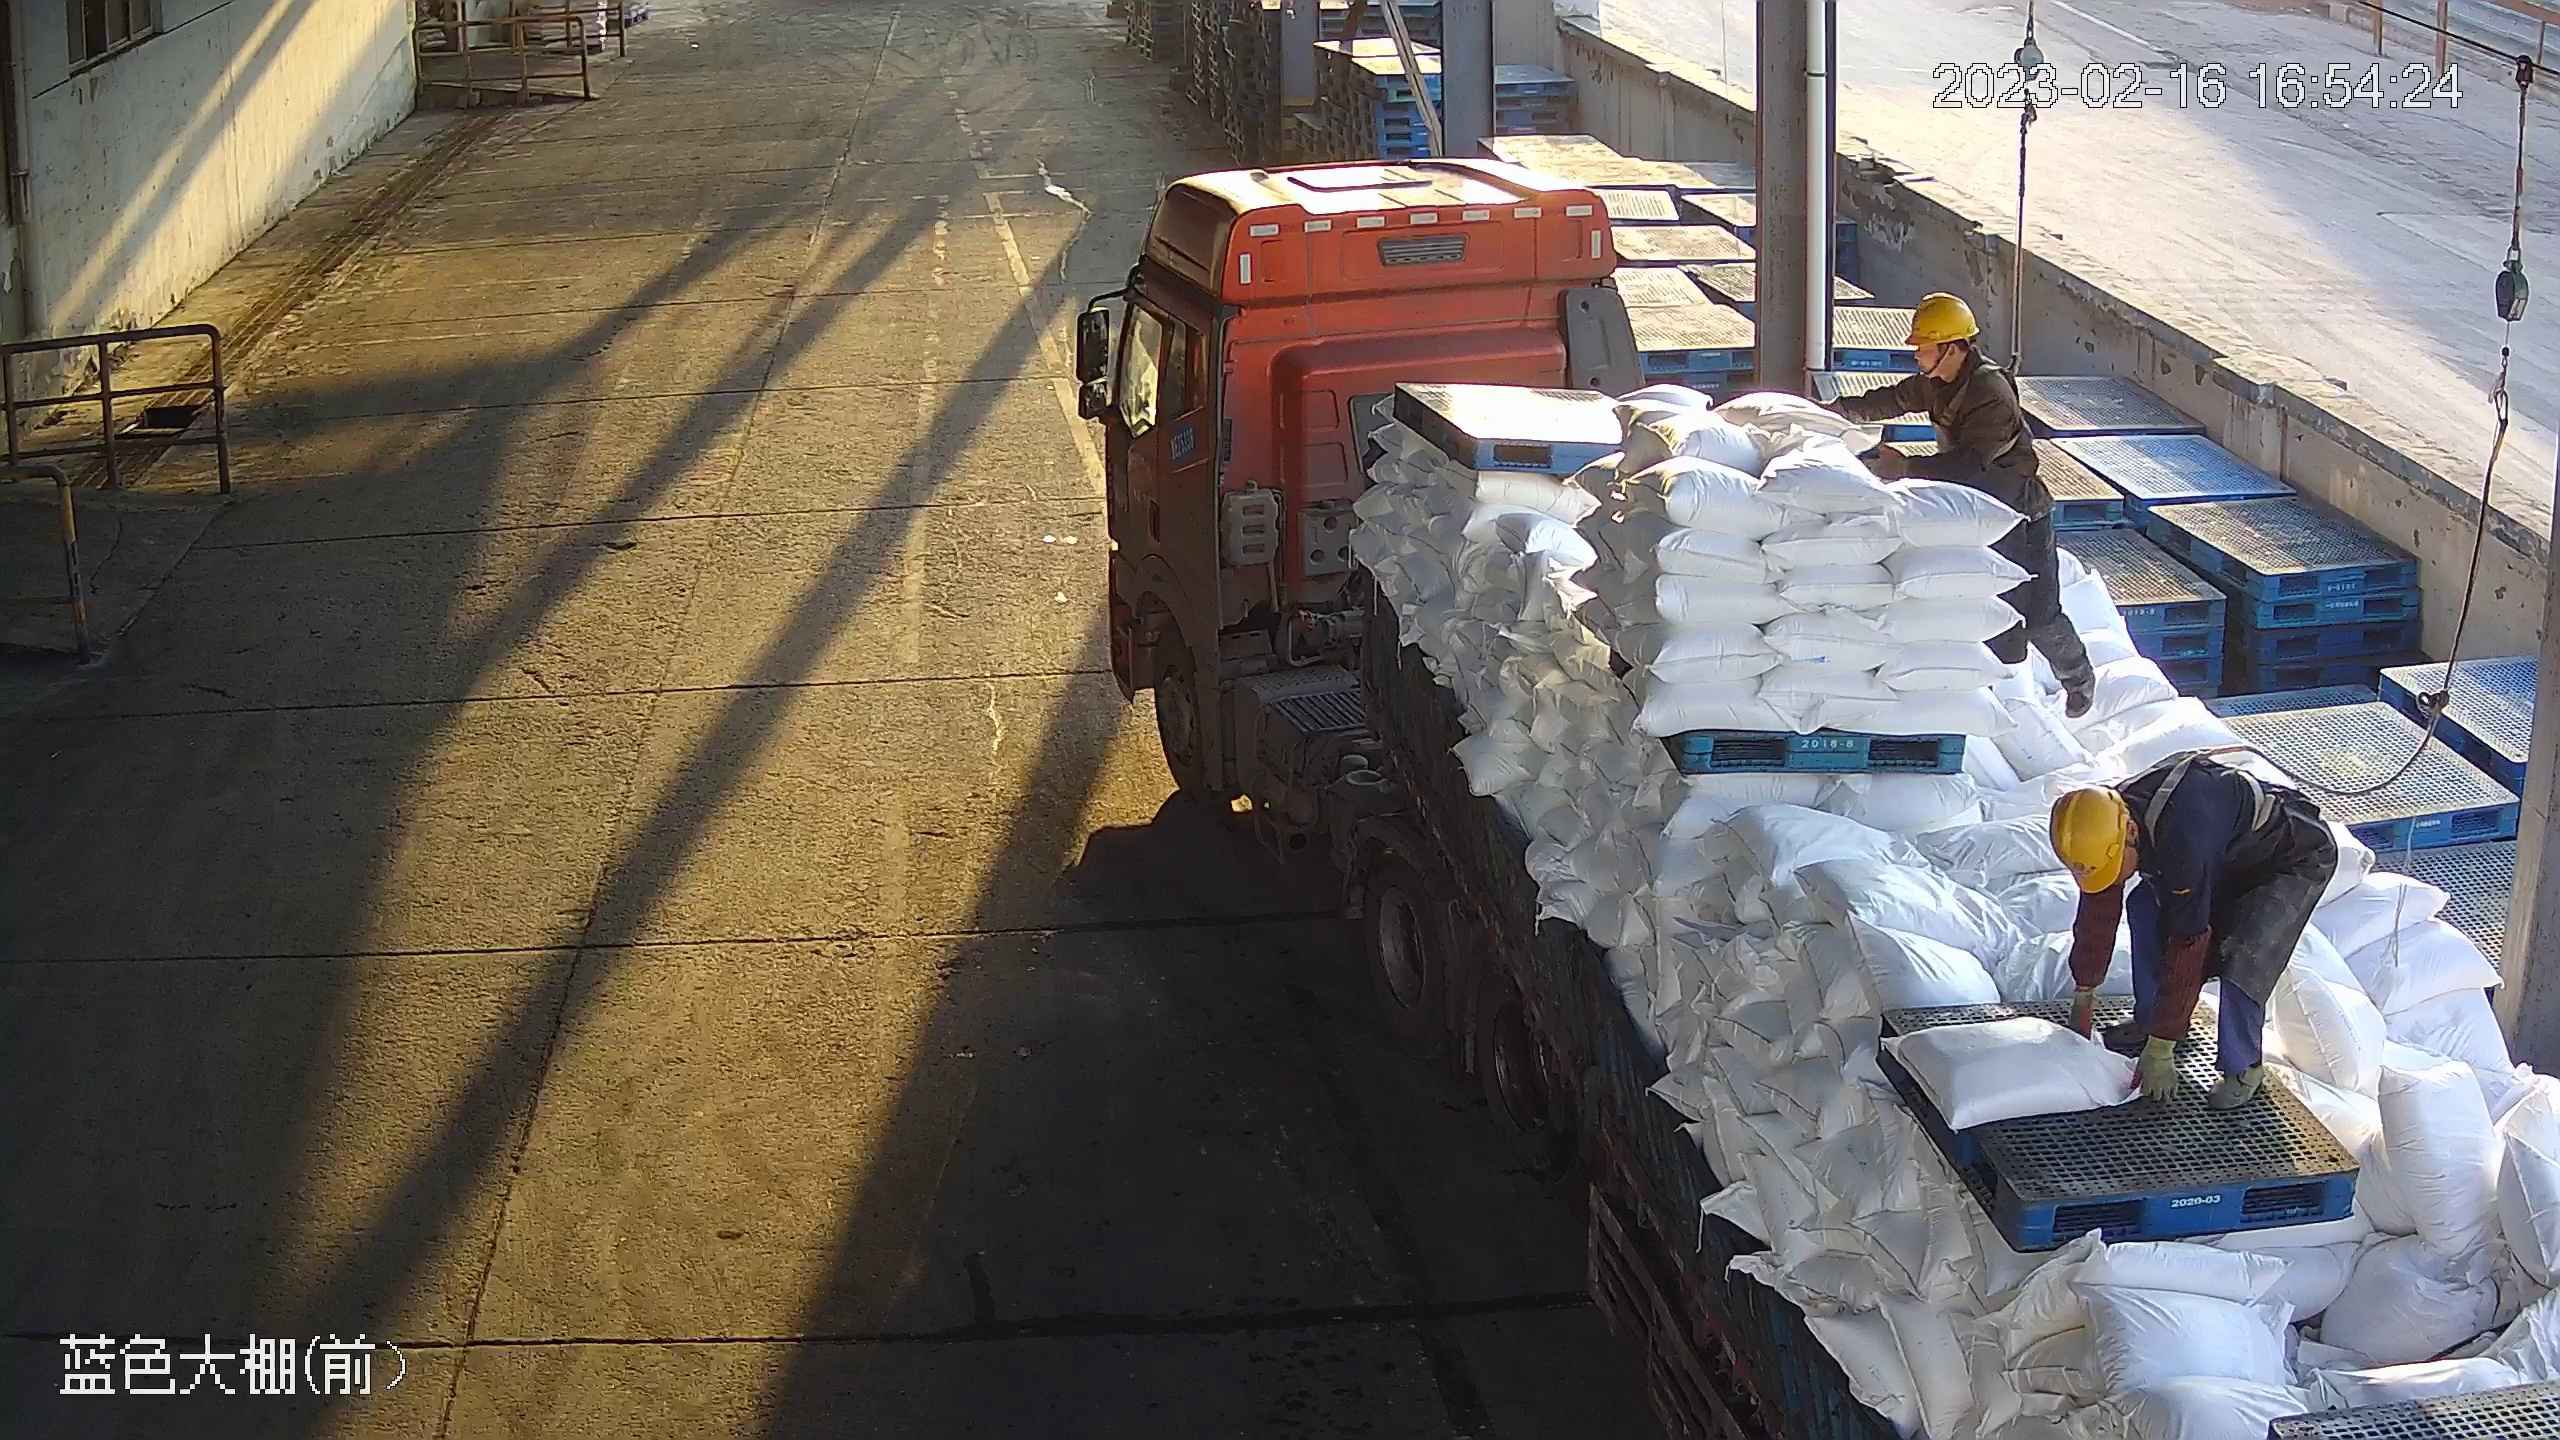belt: (2116, 745, 2265, 840), (1941, 352, 2032, 464)
head: (2044, 779, 2226, 902), (1897, 290, 2022, 421)
helmet: (2049, 783, 2130, 894), (1904, 290, 1982, 346)
people: (1828, 288, 2096, 719), (2043, 750, 2343, 1114)
truck: (1100, 154, 2560, 1440)
